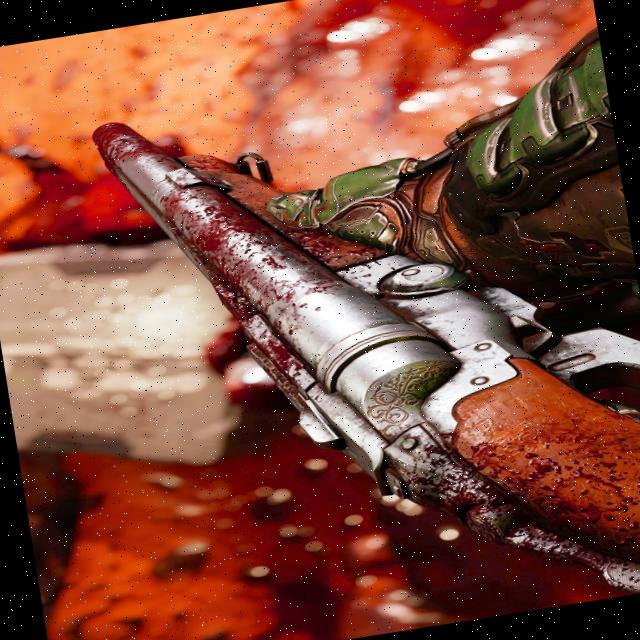Shotgun: (75, 41, 640, 640)
